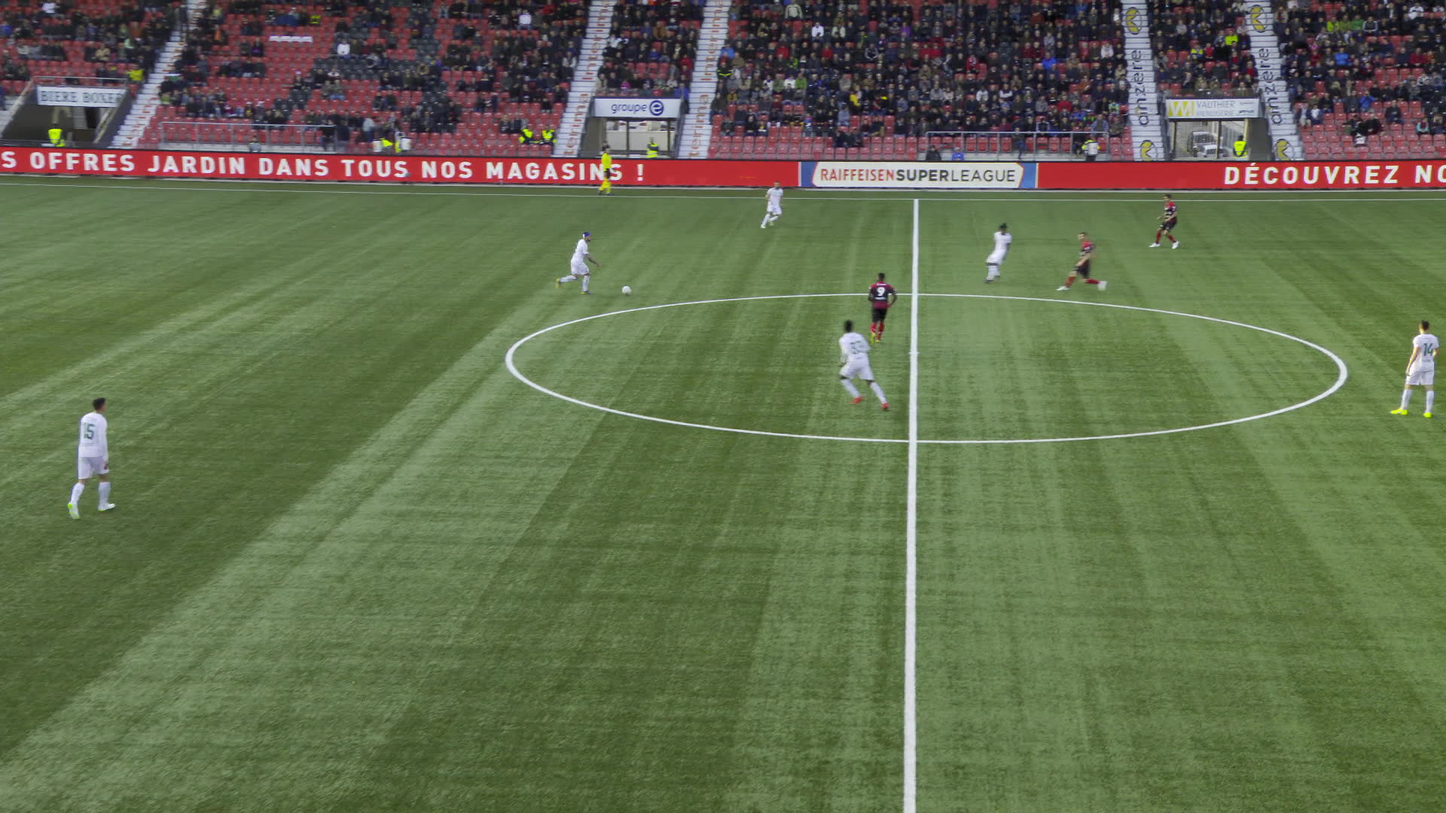ball: (621, 285, 630, 294)
player: (74, 396, 124, 516), (837, 317, 889, 411), (1392, 319, 1438, 416), (558, 231, 599, 294), (1067, 231, 1109, 290), (984, 221, 1017, 284), (869, 273, 897, 340), (1150, 194, 1181, 248), (761, 180, 786, 227)
referee: (597, 146, 615, 195)
